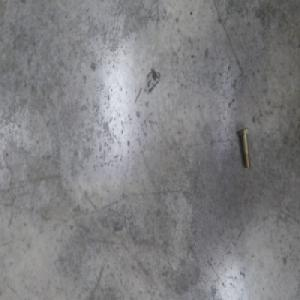Bolt: (238, 125, 251, 167)
